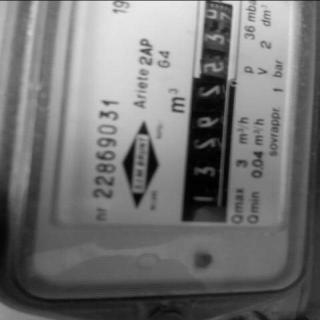2: (189, 193, 220, 206)
3: (196, 82, 224, 98), (193, 137, 220, 152)
4: (192, 162, 219, 179), (202, 31, 228, 45)
6: (200, 59, 227, 73)
:: (192, 112, 222, 129)
